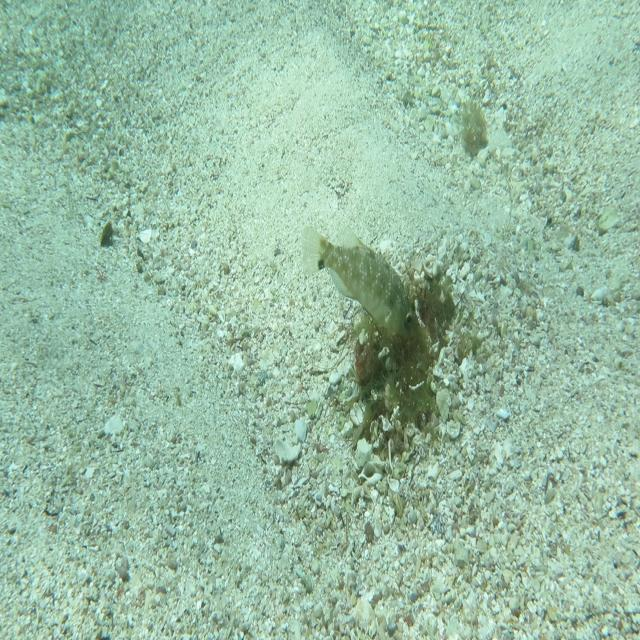NIP_CORE: (299, 219, 423, 352)
nest: (344, 256, 459, 457)
vegetation: (458, 101, 491, 160), (98, 221, 118, 253)
